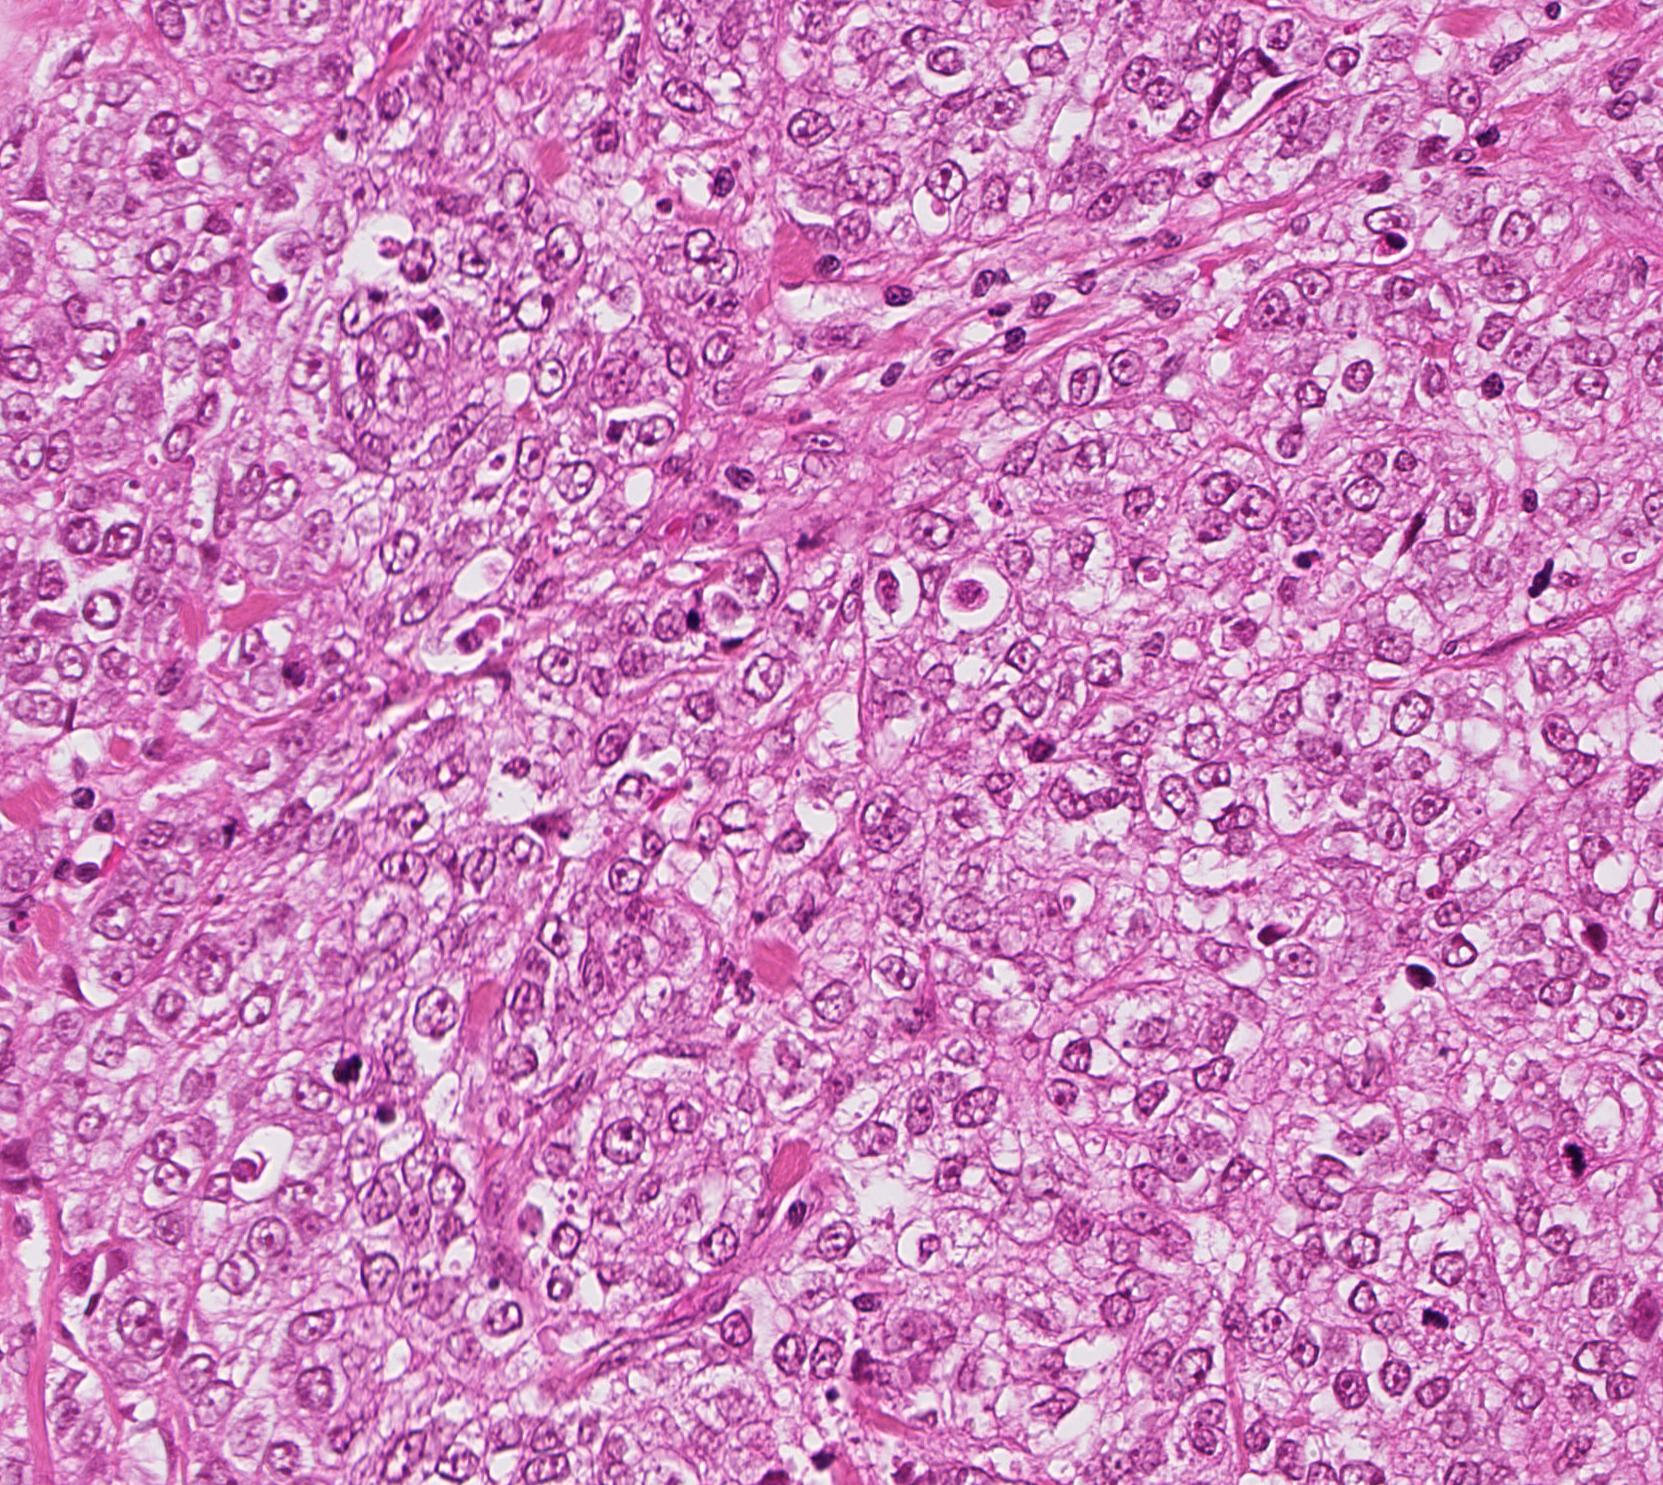mitosis: (318, 1035, 378, 1095), (1411, 1280, 1469, 1340)
